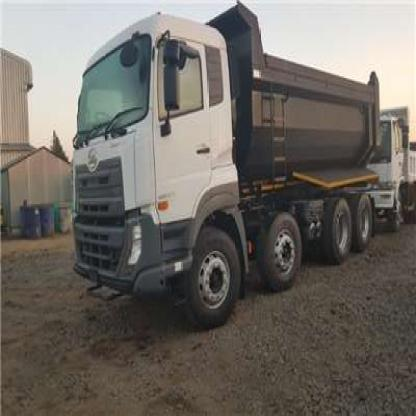dump_truck: (70, 5, 415, 327)
